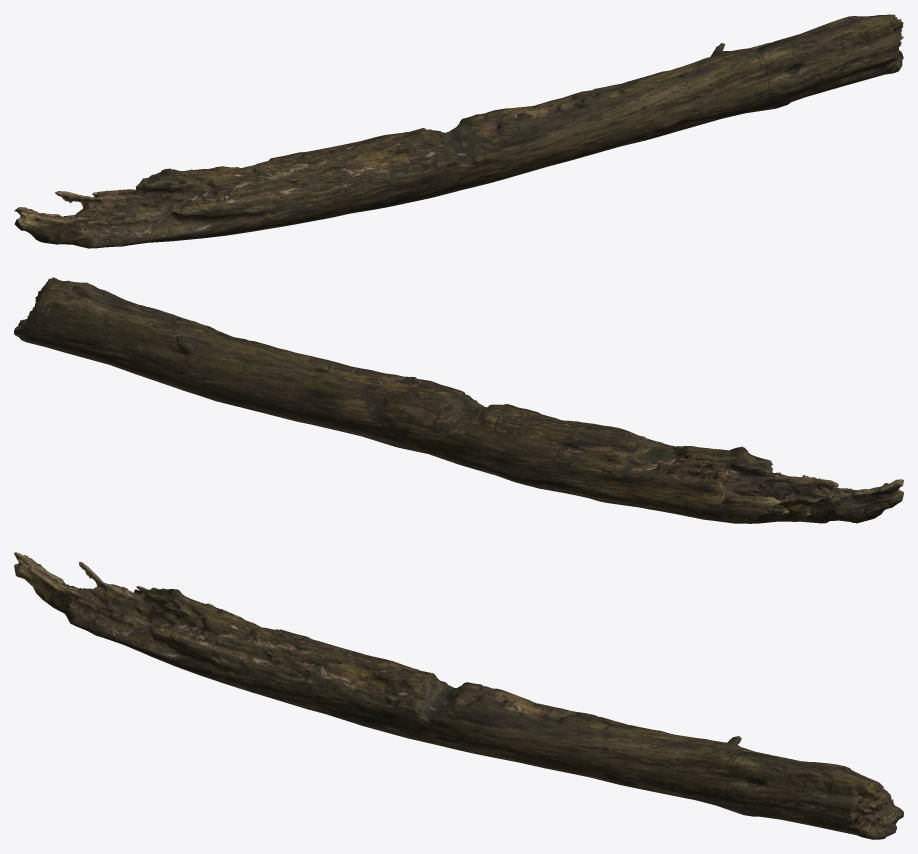
File: ph_dead_tree_trunk_lod0.glb
3 views of the same model, one above another, from view 1: azimuth 30°, elevation 25°; view 2: azimuth 150°, elevation 25°; view 3: azimuth 330°, elevation 25° (orthographic).
Visible parts, largest first — view 1: dead_tree_trunk; view 2: dead_tree_trunk; view 3: dead_tree_trunk.
Part boxes in pixels (x1=…): dead_tree_trunk: x1=14, y1=14, x2=903, y2=248; dead_tree_trunk: x1=14, y1=277, x2=903, y2=523; dead_tree_trunk: x1=14, y1=552, x2=903, y2=839.
Size of the model in its own units: 3.05 by 0.2898 by 0.2775.
Materials: 1 (1 with a texture image).
